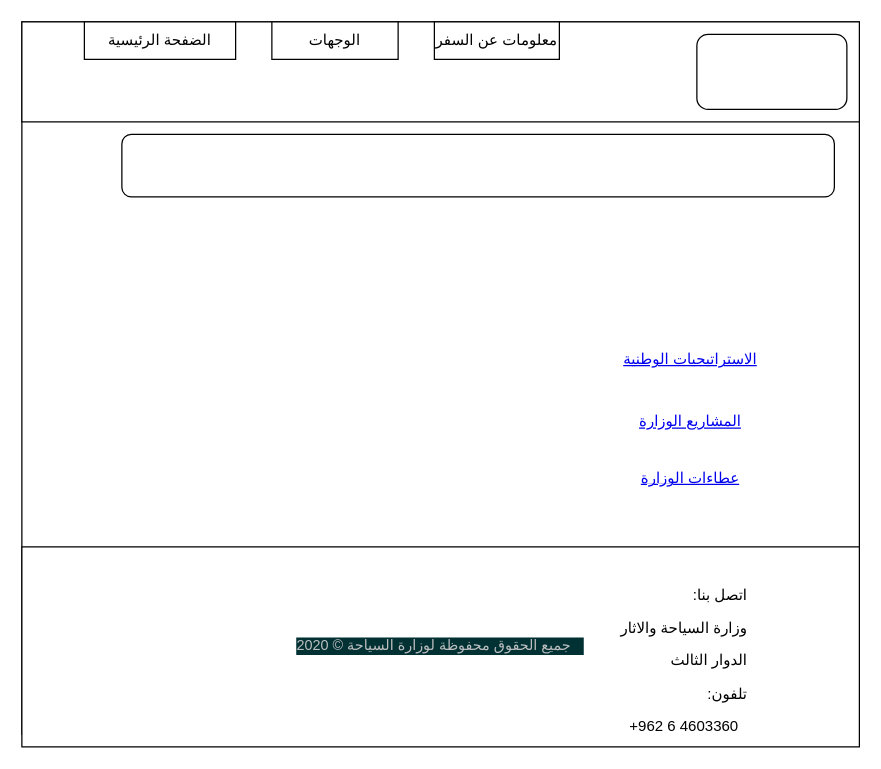
This 881x769 diagram has some shape labels left out. Each missing label, with the box of its shape:
Logo وزارة السياحة والاثار: (696, 33, 847, 109)
المشاريع والمبادرات -الصفحة الرئيسية: (121, 133, 834, 197)
